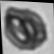correct: (1, 2, 50, 54)
